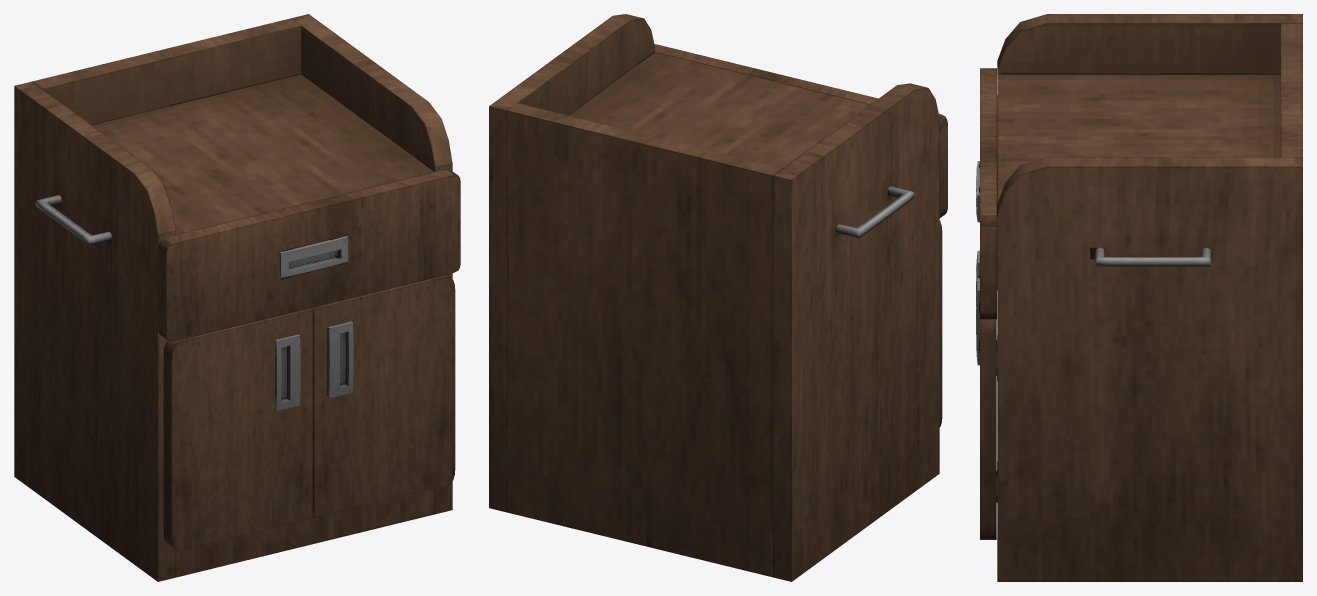
The model's file is drawer fbx.fbx.
3 renders of one model, left to right at view 1: azimuth 30°, elevation 25°; view 2: azimuth 150°, elevation 25°; view 3: azimuth 270°, elevation 25°, orthographic. The views are drawn at different scales.
Parts seen in each view (by area): view 1: Box001, Object010, Object011, Object002, Line001; view 2: Box001, Object010, Line001, Object011; view 3: Box001, Object010, Object002, Line001.
Part boxes in pixels (box(x1,y1,x2,y2)): Box001: box(14, 14, 452, 581); Object010: box(158, 169, 460, 341); Object011: box(163, 308, 312, 551); Object002: box(311, 275, 455, 517); Line001: box(35, 195, 111, 245); Box001: box(489, 14, 939, 581); Object010: box(654, 44, 947, 217); Line001: box(836, 186, 914, 238); Object011: box(939, 221, 942, 426); Box001: box(997, 14, 1302, 581); Object010: box(976, 68, 997, 319); Object002: box(976, 278, 997, 539); Line001: box(1095, 247, 1211, 266).
Bounding box in the file's own units: 31.28 × 34.32 × 24.48.
Materials: 1 (1 with a texture image).
